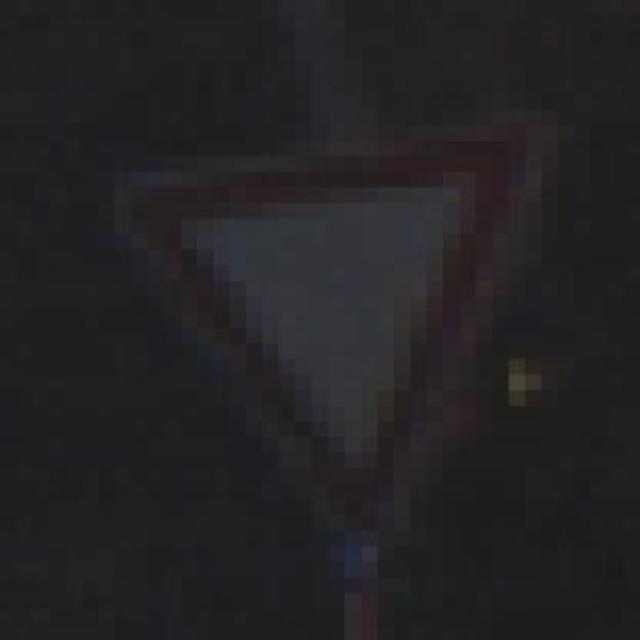Give Way: (111, 86, 603, 571)
